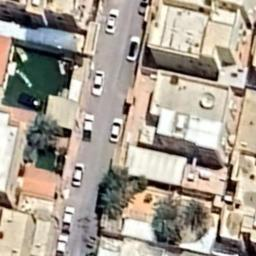pickup: (81, 113, 95, 143), (61, 206, 74, 233), (54, 234, 68, 256)
sedan: (104, 8, 120, 36), (126, 35, 142, 63), (108, 117, 124, 144), (90, 70, 105, 98), (70, 162, 84, 188), (136, 0, 150, 17)
